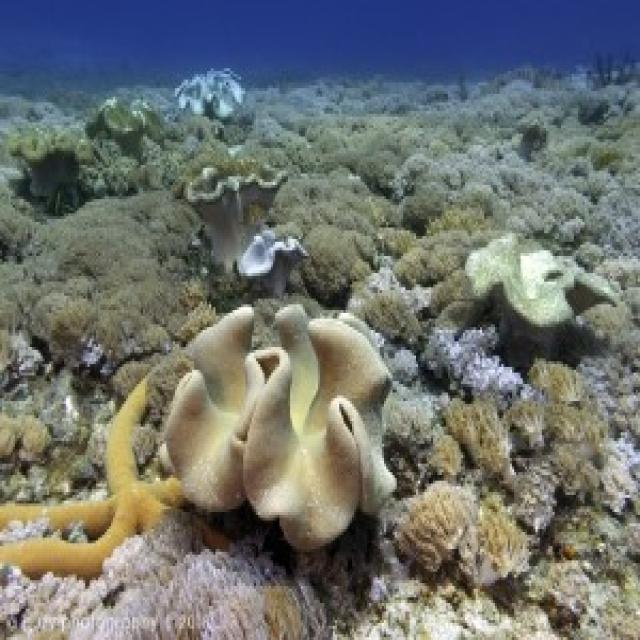Bleached: (387, 325, 524, 399), (178, 69, 244, 118)
Healthy: (161, 305, 396, 547), (1, 513, 325, 638), (1, 379, 178, 576), (1, 192, 206, 362), (438, 143, 639, 257), (526, 442, 639, 638), (453, 234, 618, 365), (445, 362, 600, 487), (7, 101, 178, 211), (272, 169, 396, 305), (391, 482, 530, 587), (353, 581, 558, 638), (182, 163, 287, 268)
